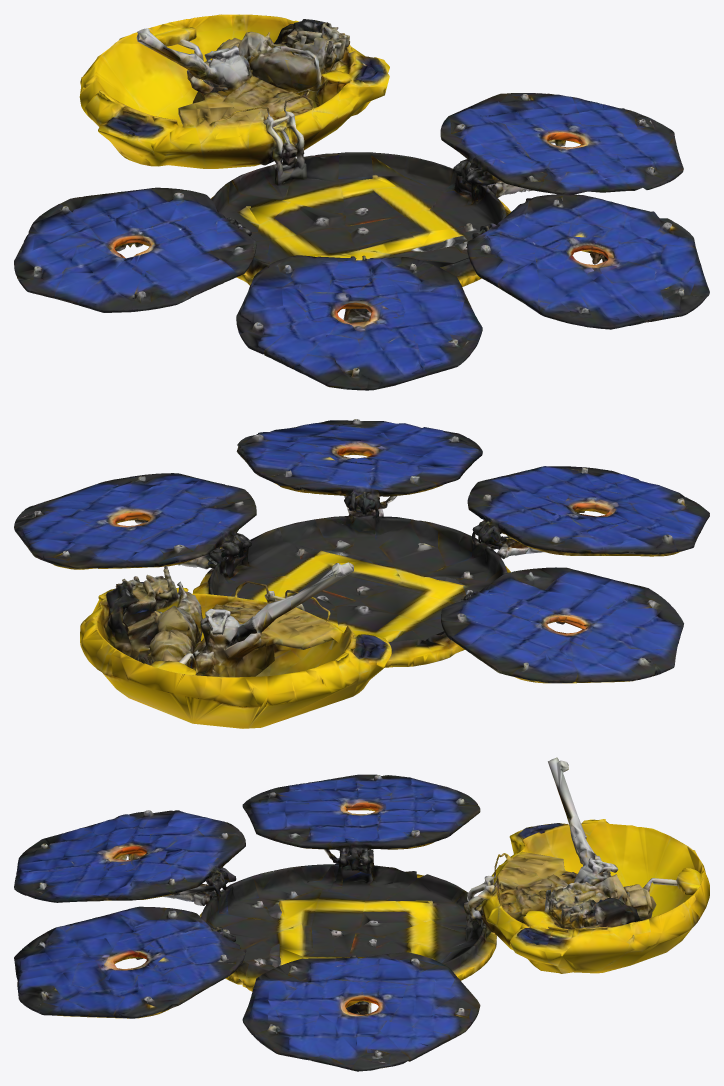
The model's file is beagle2-low.glb.
3 renders of one model, top to bottom at view 1: azimuth 30°, elevation 25°; view 2: azimuth 150°, elevation 25°; view 3: azimuth 270°, elevation 25°, orthographic. The views are drawn at different scales.
Size of the model in its own units: 1.9 by 0.4477 by 1.89.
1 material, 1 textured.
